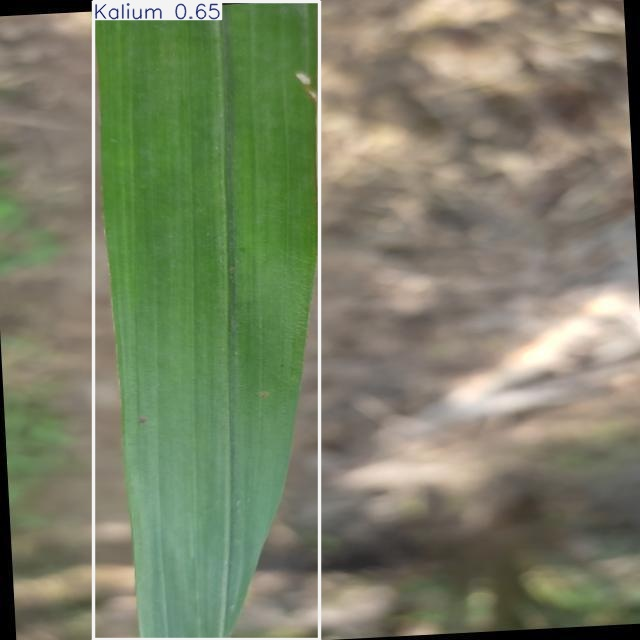Kalium: (94, 2, 320, 640)
